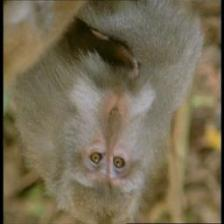monkey: (73, 82, 139, 208), (121, 55, 145, 81)
